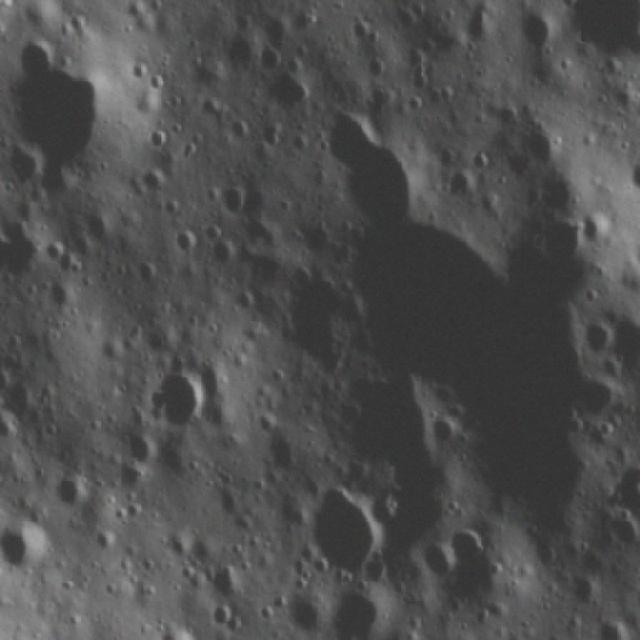crater: (312, 482, 383, 570), (152, 367, 214, 430), (0, 511, 55, 574), (578, 374, 620, 426), (422, 542, 458, 587), (521, 6, 559, 48), (579, 203, 615, 246), (204, 238, 244, 274), (79, 215, 115, 248), (582, 320, 618, 352), (132, 160, 168, 192), (222, 184, 252, 221), (209, 563, 246, 592), (458, 529, 485, 566), (466, 144, 496, 176), (597, 617, 638, 640), (133, 257, 164, 286), (0, 416, 23, 447), (211, 608, 237, 632), (293, 78, 316, 105), (125, 462, 154, 482), (126, 58, 156, 77), (146, 129, 174, 149), (624, 23, 640, 58), (92, 530, 120, 550), (146, 70, 168, 95), (624, 160, 640, 193), (150, 631, 196, 640), (0, 349, 3, 382)
